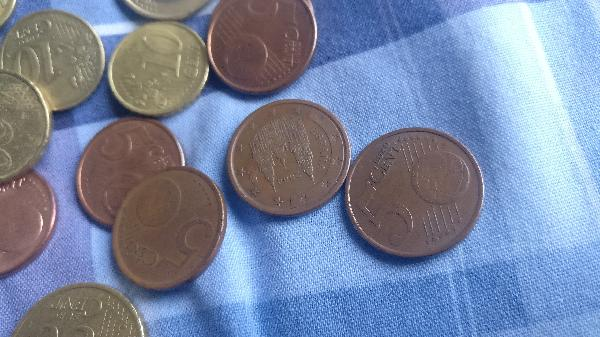Fifty Cent: (6, 281, 148, 337)
Five Cent: (345, 130, 486, 256), (226, 98, 349, 218), (114, 168, 227, 291), (76, 118, 184, 228), (205, 1, 328, 97), (1, 167, 63, 280)
Ten Cent: (5, 14, 107, 113), (113, 24, 210, 117)
Twenty Cent: (1, 81, 54, 178)
